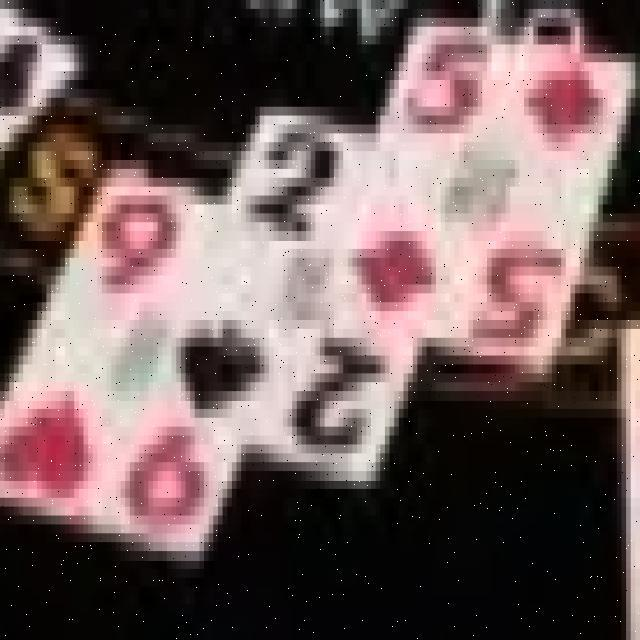Card-2: (153, 110, 418, 480)
Card-5: (317, 20, 636, 369)
Card-9: (0, 173, 241, 564)
